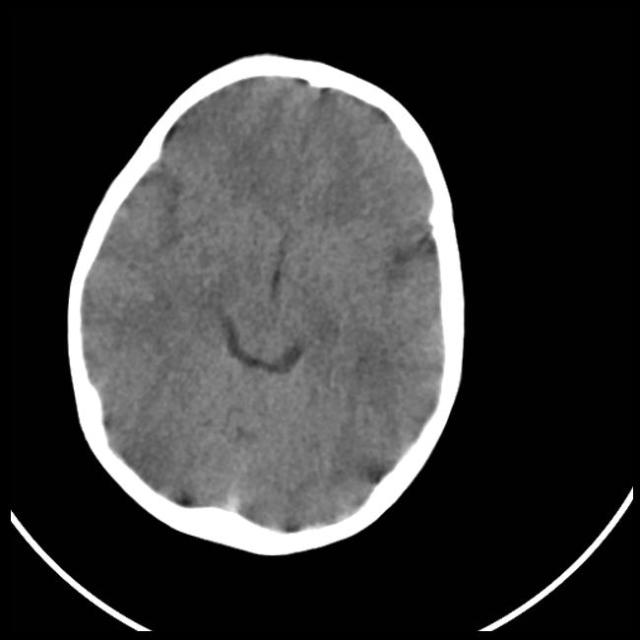lesion: (67, 60, 466, 546)
